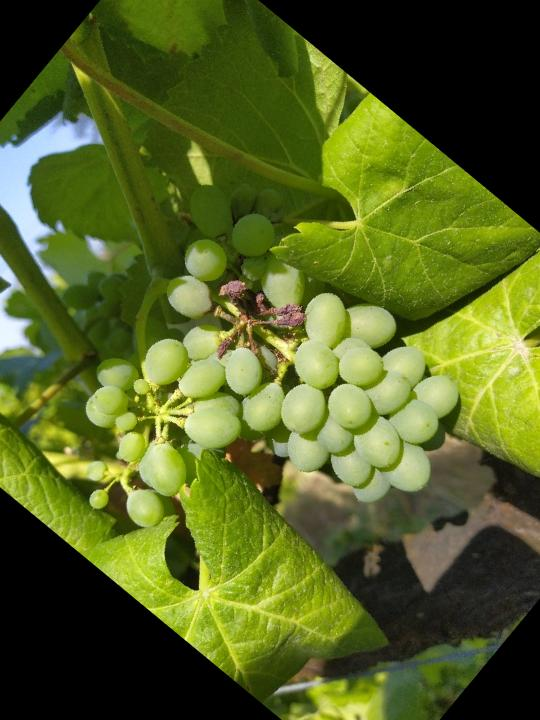grape: (0, 147, 515, 667)
